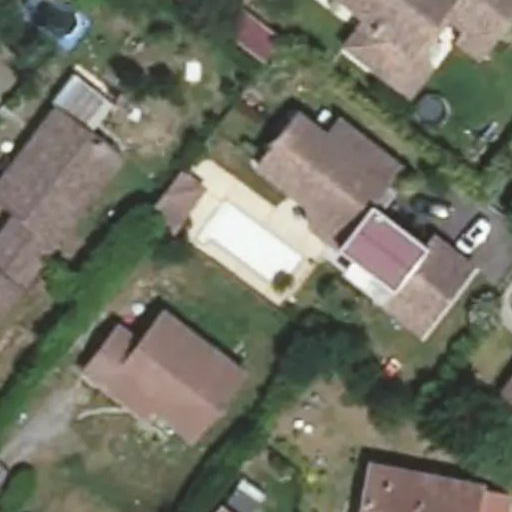pool: (209, 235, 302, 255)
